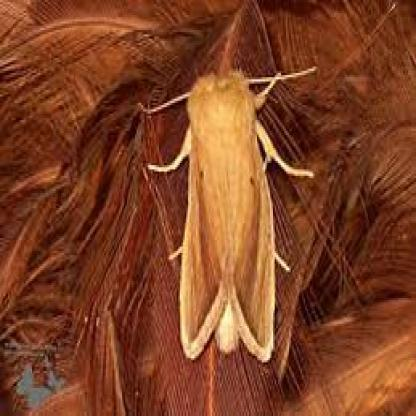stem-borer: (172, 65, 282, 366)
